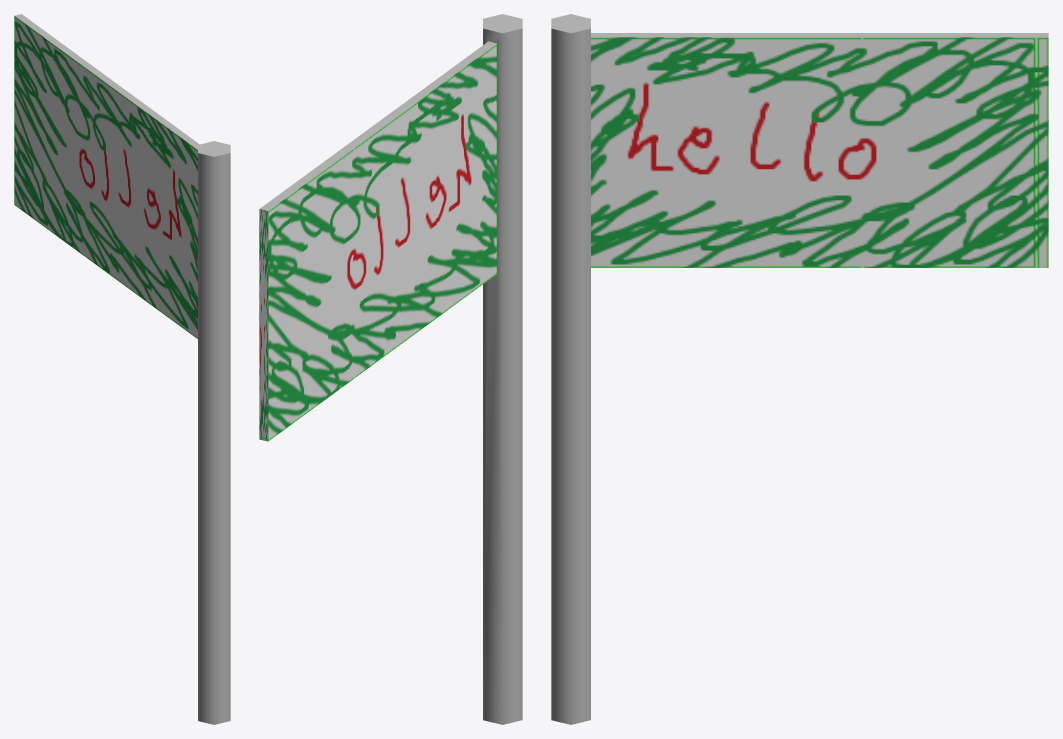
File: flag.DAE
3 renders of one model, left to right at view 1: azimuth 30°, elevation 25°; view 2: azimuth 150°, elevation 25°; view 3: azimuth 270°, elevation 25°, orthographic. The views are drawn at different scales.
Visible parts, largest first — view 1: Cylinder001; view 2: Cylinder001; view 3: Cylinder001.
Boxes of the visible parts, x1=… form: Cylinder001: x1=14, y1=14, x2=230, y2=724; Cylinder001: x1=259, y1=14, x2=522, y2=724; Cylinder001: x1=551, y1=14, x2=1048, y2=724.
Bounding box in the file's own units: 6 × 100 × 65.2.
Materials: 1 (1 with a texture image).
